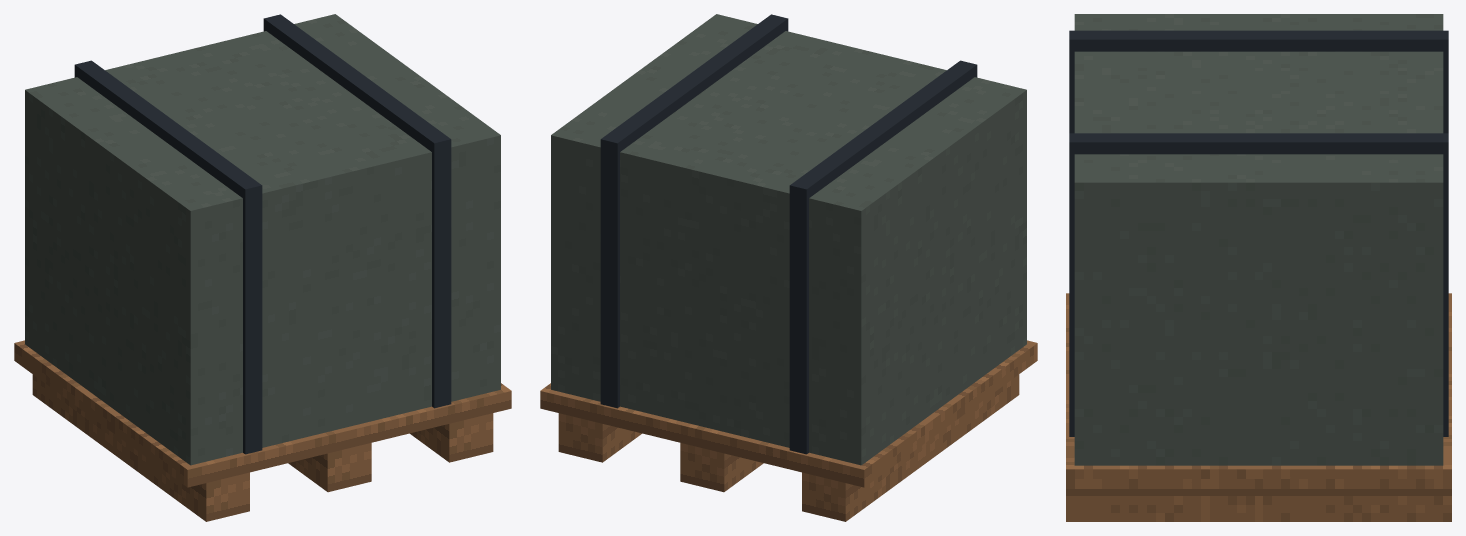
Rendered from f_pallet_belted.glb.
3 views of the same model, side by side, from view 1: azimuth 30°, elevation 25°; view 2: azimuth 150°, elevation 25°; view 3: azimuth 270°, elevation 25° (orthographic). The views are drawn at different scales.
Visible parts, largest first — view 1: block_watertight-cover, block_deck, block_tie-down--0.28, block_tie-down-0.28, block_skid--0.36, block_skid-0.36, block_skid-0; view 2: block_watertight-cover, block_deck, block_tie-down--0.28, block_tie-down-0.28, block_skid--0.36, block_skid-0.36, block_skid-0; view 3: block_watertight-cover, block_skid-0.36, block_tie-down-0.28, block_deck, block_tie-down--0.28.
Part boxes in pixels (box(x1,y1,x2,y2)): block_watertight-cover: box(25, 14, 500, 465); block_deck: box(14, 340, 511, 487); block_tie-down--0.28: box(74, 60, 262, 454); block_tie-down-0.28: box(263, 14, 451, 408); block_skid--0.36: box(32, 374, 249, 521); block_skid-0.36: box(410, 413, 493, 462); block_skid-0: box(288, 443, 371, 492); block_watertight-cover: box(551, 14, 1026, 465); block_deck: box(540, 340, 1037, 487); block_tie-down--0.28: box(789, 60, 977, 454); block_tie-down-0.28: box(600, 14, 788, 408); block_skid--0.36: box(802, 374, 1019, 521); block_skid-0.36: box(558, 413, 641, 462); block_skid-0: box(680, 443, 763, 492); block_watertight-cover: box(1074, 14, 1443, 465); block_skid-0.36: box(1066, 489, 1451, 521); block_tie-down-0.28: box(1069, 133, 1448, 436); block_deck: box(1066, 293, 1451, 488); block_tie-down--0.28: box(1069, 30, 1448, 133).
Size of the model in its own units: 0.96 by 0.91 by 0.89.
Materials: 1 (1 with a texture image).
